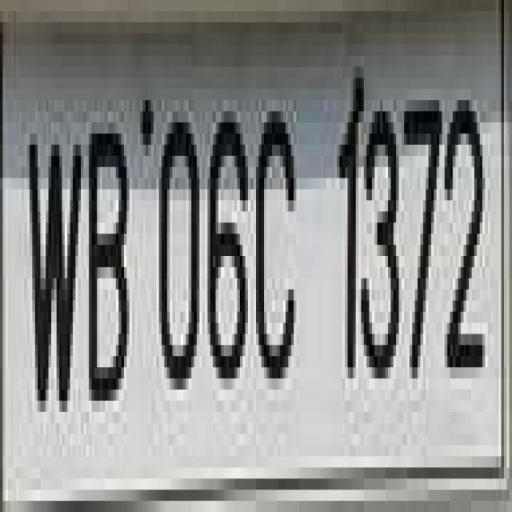number plate: (18, 22, 512, 500)
